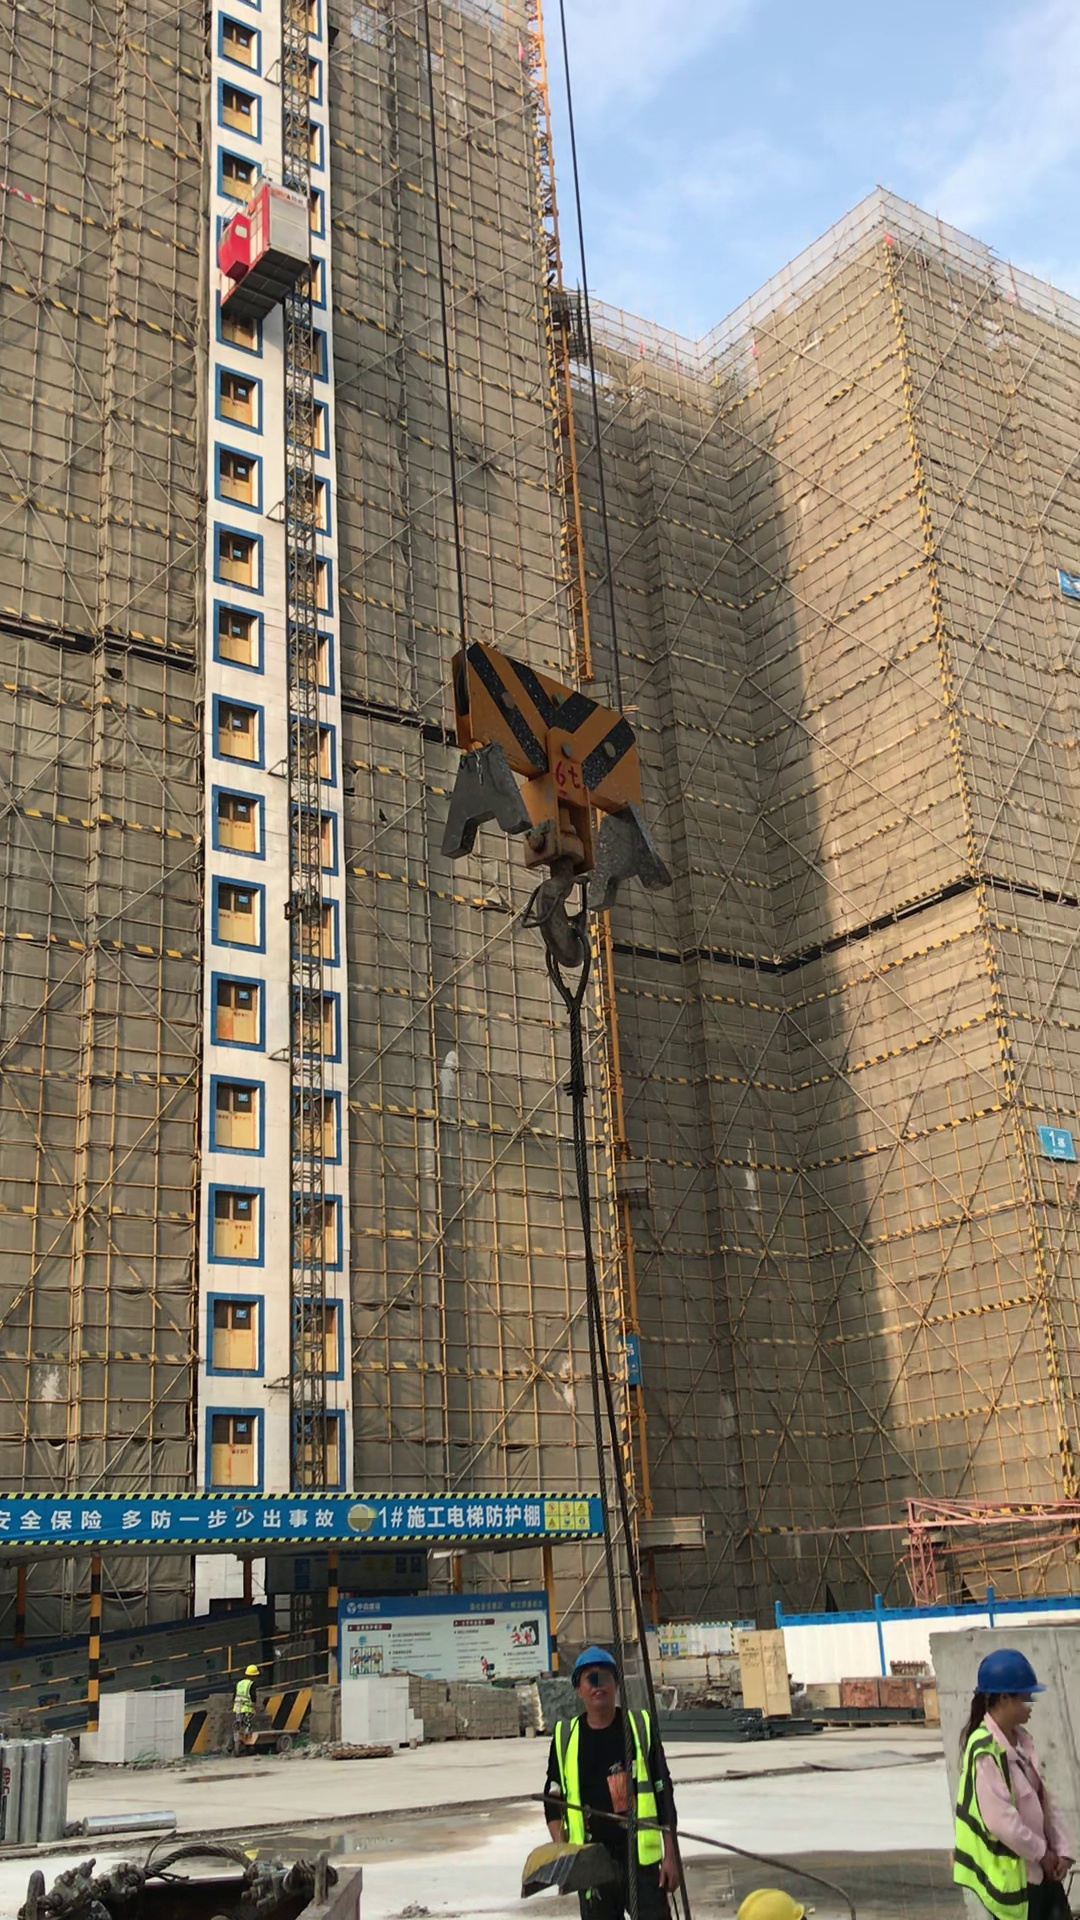brick: (78, 1683, 191, 1767), (334, 1671, 427, 1744)
helmet: (957, 1642, 1050, 1697), (567, 1644, 633, 1683), (240, 1660, 263, 1679)
hook: (439, 613, 680, 986)
person: (523, 1633, 714, 1920), (928, 1647, 1080, 1904), (225, 1661, 273, 1760)
slogan: (1, 1499, 607, 1553)
vest: (554, 1719, 665, 1865), (954, 1725, 1034, 1918), (238, 1679, 253, 1709)
